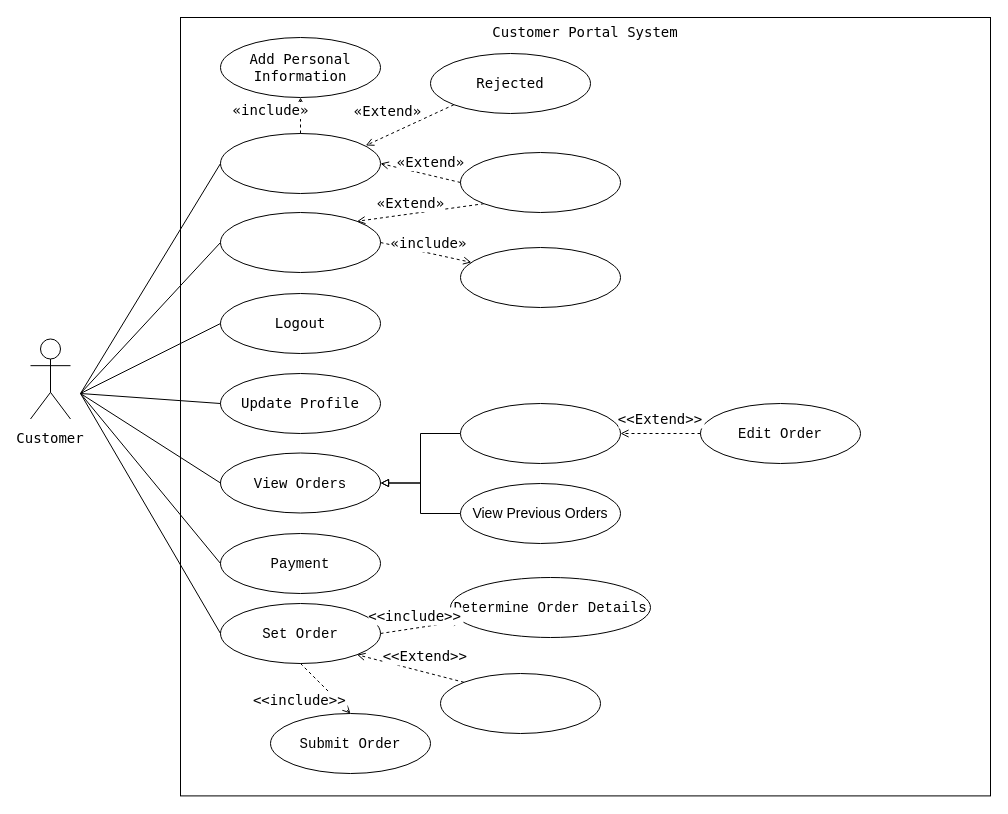
Image size: 1008x814. Some labels were removed from this diagram. The shapes that lost their labels are listed below. From the top down, each one's centre as x and y in pixels, then its label:
At [300,163]: "Register".
At [540,182]: "Show Error Message".
At [300,242]: "Login".
At [540,277]: "Verify Account".
At [540,433]: "View Current Orders".
At [520,703]: "Cancel Order".
